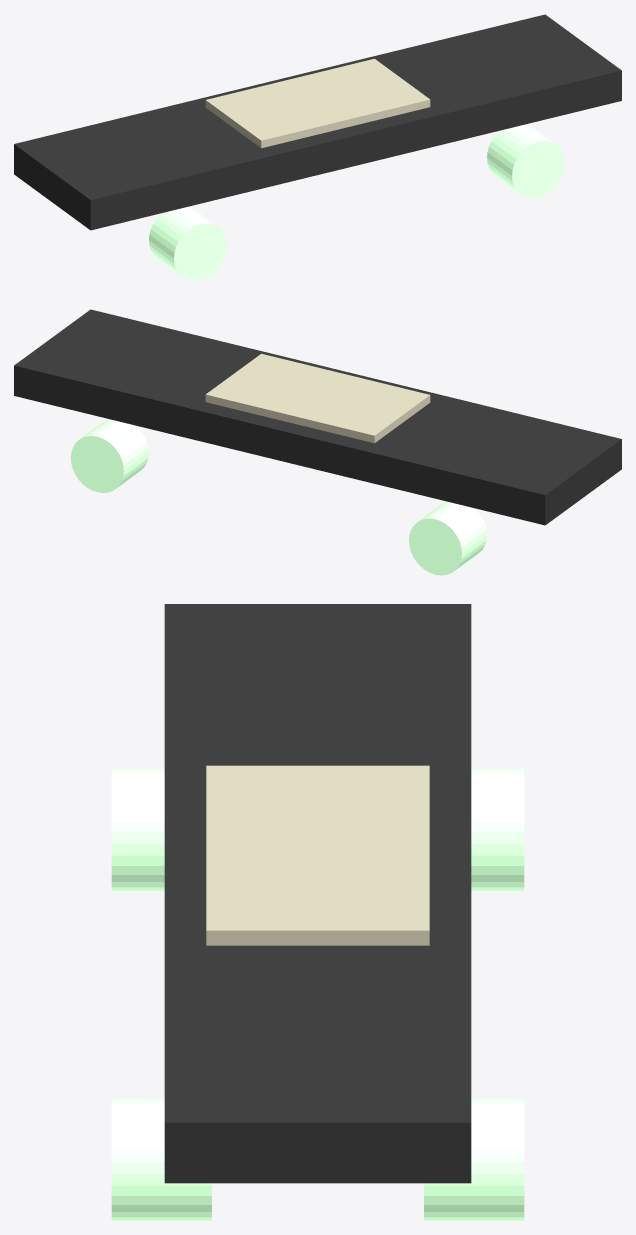
Rendered from skateboard.glb.
The picture shows the model from 3 angles, top to bottom: view 1: azimuth 30°, elevation 25°; view 2: azimuth 150°, elevation 25°; view 3: azimuth 270°, elevation 25°; orthographic projection. The views are drawn at different scales.
Parts seen in each view (by area): view 1: SB_Deck, SB_Graphic, SB_Wheel2, SB_Wheel4; view 2: SB_Deck, SB_Graphic, SB_Wheel1, SB_Wheel3; view 3: SB_Deck, SB_Graphic, SB_Wheel3, SB_Wheel4, SB_Wheel1, SB_Wheel2.
Boxes of the visible parts, left/top/right/bottom form: SB_Deck: left=14, top=14, right=621, bottom=230; SB_Graphic: left=205, top=58, right=430, bottom=148; SB_Wheel2: left=149, top=206, right=226, bottom=280; SB_Wheel4: left=487, top=124, right=565, bottom=197; SB_Deck: left=14, top=309, right=621, bottom=525; SB_Graphic: left=205, top=353, right=430, bottom=443; SB_Wheel1: left=409, top=501, right=486, bottom=575; SB_Wheel3: left=70, top=419, right=148, bottom=492; SB_Deck: left=164, top=604, right=471, bottom=1183; SB_Graphic: left=206, top=765, right=429, bottom=945; SB_Wheel3: left=424, top=1098, right=524, bottom=1220; SB_Wheel4: left=111, top=1098, right=211, bottom=1220; SB_Wheel1: left=471, top=768, right=524, bottom=890; SB_Wheel2: left=111, top=768, right=164, bottom=890.
Size of the model in its own units: 2.2 by 0.4 by 0.74.
